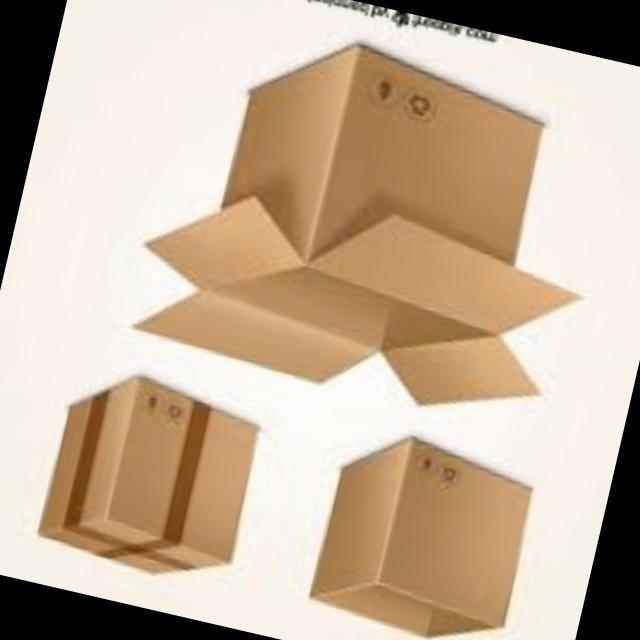cardboard paper: (131, 50, 566, 406), (307, 442, 524, 639), (35, 381, 249, 574)
